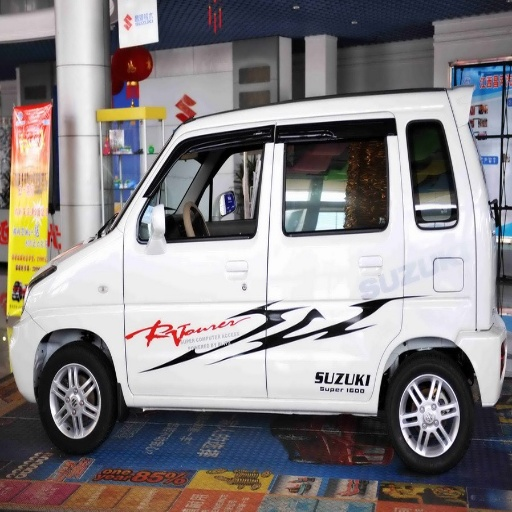trunk: (406, 190, 493, 297), (280, 343, 325, 396), (274, 298, 323, 340)
